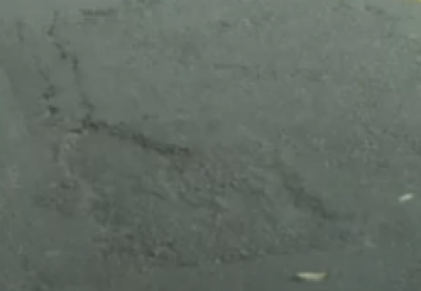Berlubang: (40, 98, 359, 267)
